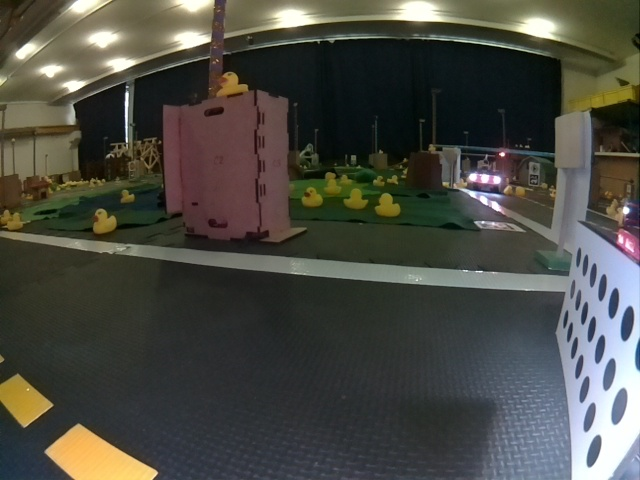Duckie: (375, 193, 401, 216), (218, 72, 245, 94), (93, 210, 117, 233), (343, 188, 365, 207), (301, 187, 322, 206), (7, 213, 23, 230), (326, 179, 341, 193), (0, 210, 12, 225), (121, 190, 135, 201), (374, 176, 384, 186), (388, 175, 398, 182), (505, 187, 513, 195), (516, 186, 525, 193)
Duckiebot: (469, 169, 502, 192)
